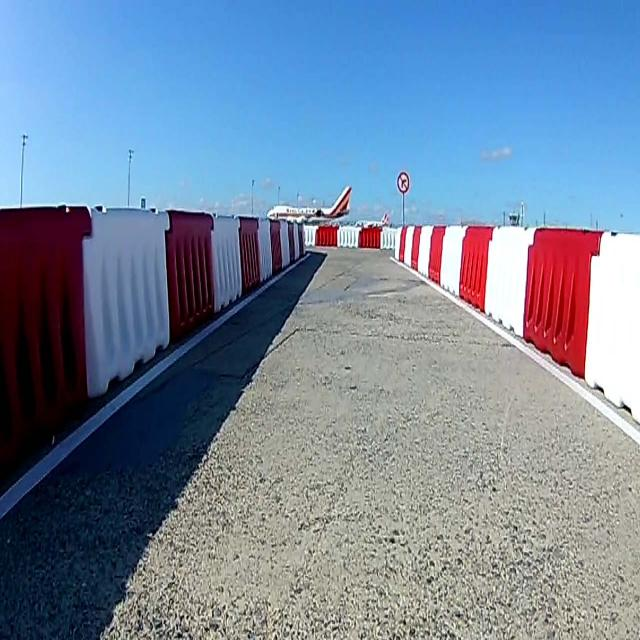sagadonulmez: (396, 172, 409, 192)
